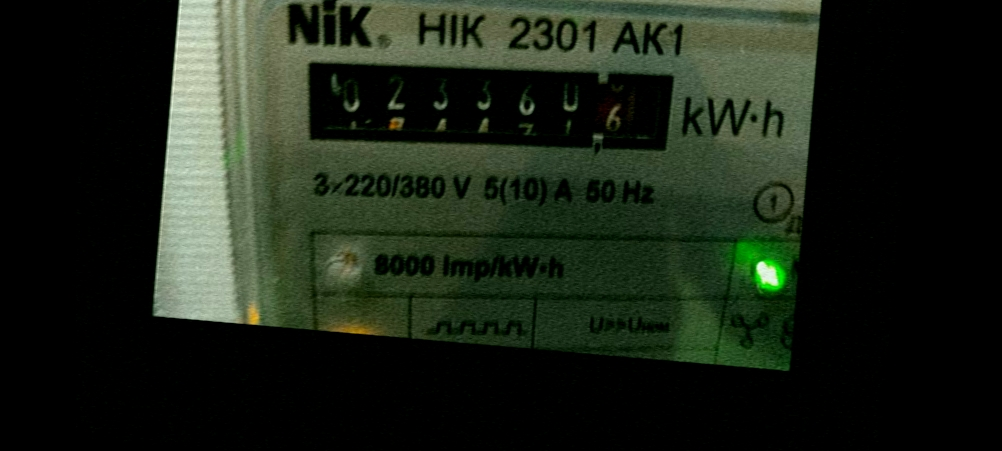0: (337, 72, 366, 116), (558, 76, 584, 115)
2: (382, 70, 411, 112)
3: (471, 73, 496, 113), (429, 72, 453, 113)
6: (512, 77, 542, 120), (603, 99, 627, 136)
screen: (280, 28, 690, 180)
